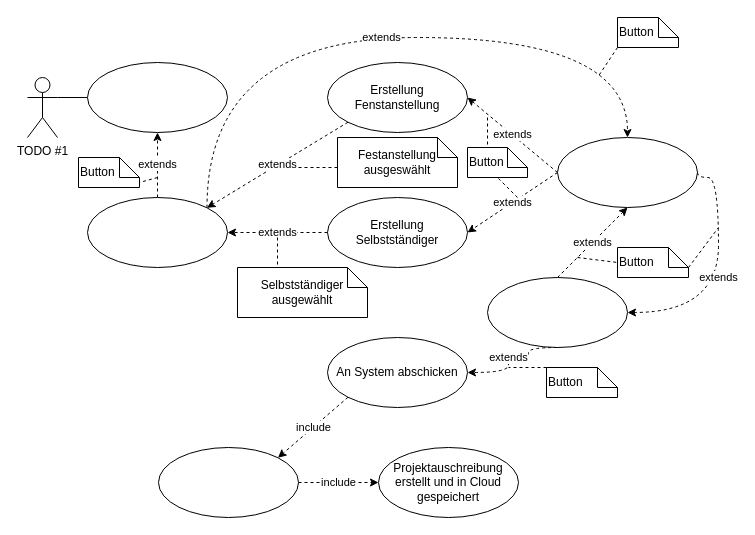
This 755x535 diagram has some shape labels left out. Each missing label, with the centre of its shape:
"Beschreibung erstellen" belongs at (x=627, y=172).
"Erhält und verifiziert die Daten" belongs at (x=228, y=482).
"Login eines registrierten Users" belongs at (x=157, y=97).
"Projektauschreibung einstellen" belongs at (x=157, y=232).
"Übersicht über eingegebene Daten erhalten" belongs at (x=557, y=312).
